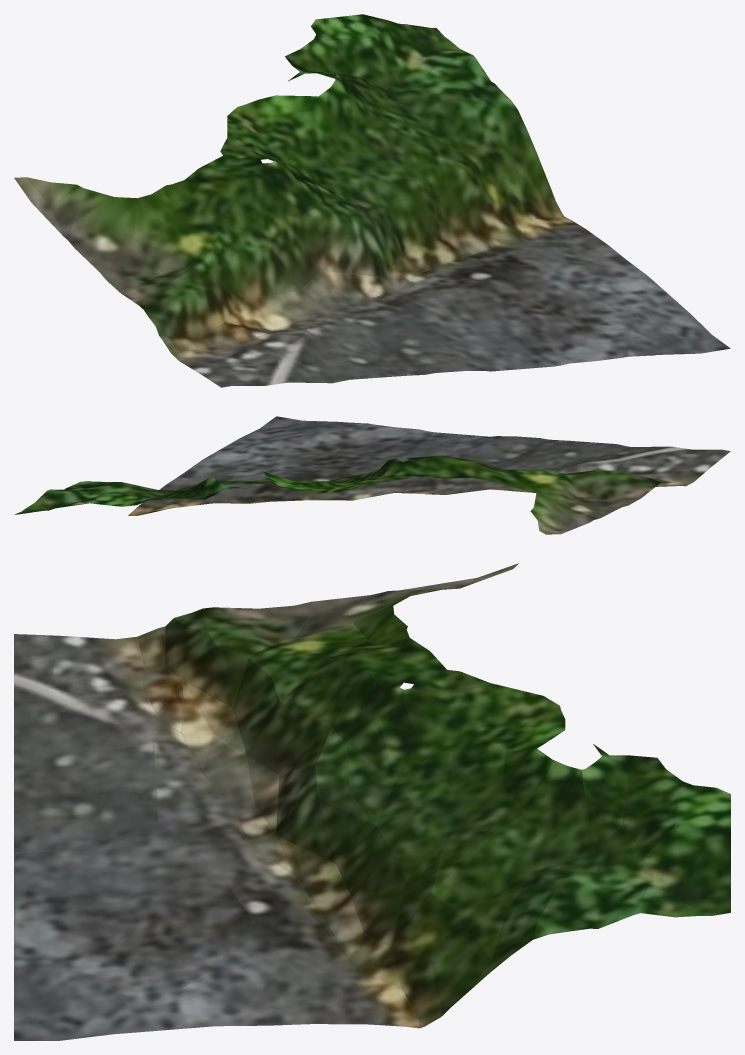
3 renders of one model, top to bottom at view 1: azimuth 30°, elevation 25°; view 2: azimuth 150°, elevation 25°; view 3: azimuth 270°, elevation 25°, orthographic. The views are drawn at different scales.
Bounding box in the file's own units: 1.67 × 0.4503 × 1.67.
2 materials, 2 textured.
